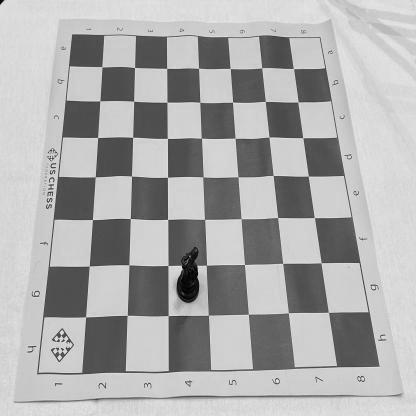black-knight: (176, 246, 200, 304)
